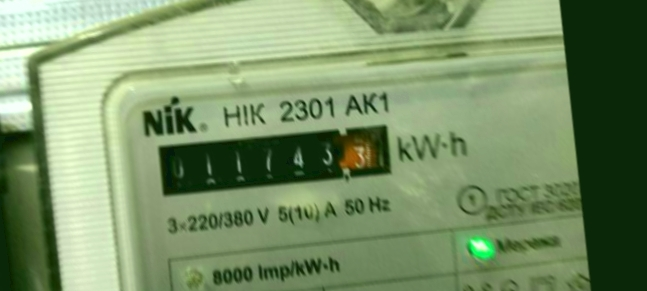0: (169, 152, 186, 181)
1: (230, 145, 245, 174), (201, 149, 214, 177)
3: (319, 138, 336, 167), (351, 144, 367, 170)
4: (289, 142, 306, 170)
7: (259, 142, 277, 171)
screen: (146, 109, 405, 210)
